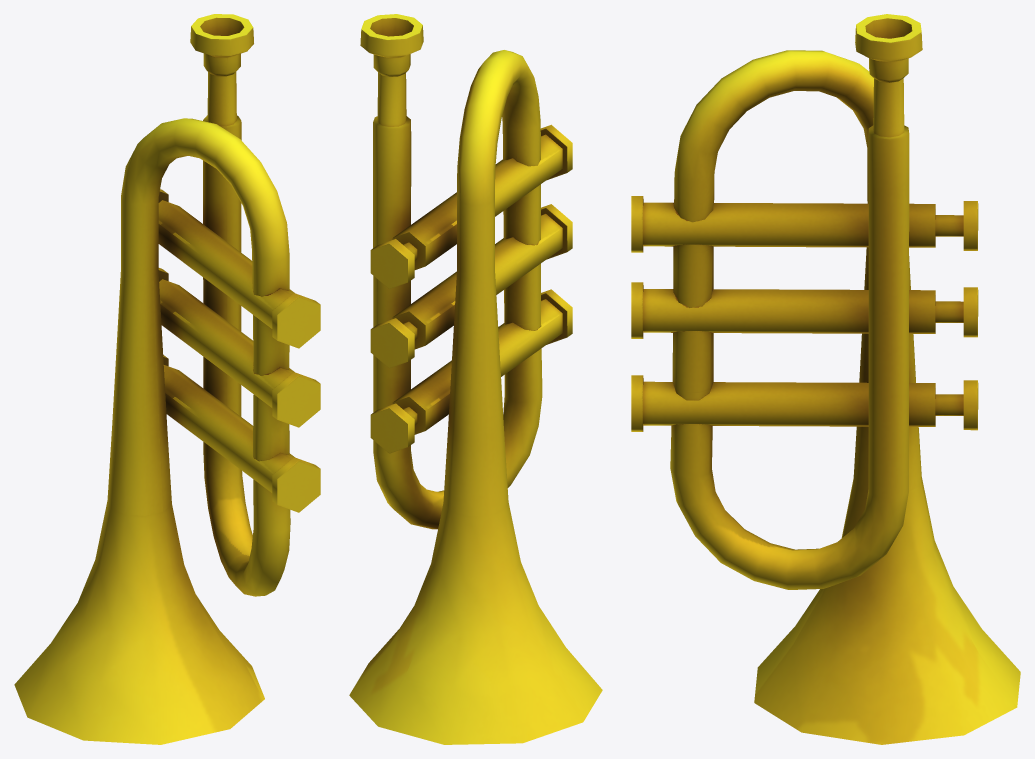
File: trumpet.fbx
3 views of the same model, side by side, from view 1: azimuth 30°, elevation 25°; view 2: azimuth 150°, elevation 25°; view 3: azimuth 270°, elevation 25° (orthographic). The views are drawn at different scales.
Parts seen in each view (by area): view 1: trumpet; view 2: trumpet; view 3: trumpet.
Part boxes in pixels (x1,y1,x2,y2): trumpet: (14,14,320,744); trumpet: (349,14,602,744); trumpet: (631,14,1020,744).
Bounding box in the file's own units: 0.0783 × 0.2195 × 0.1098.
